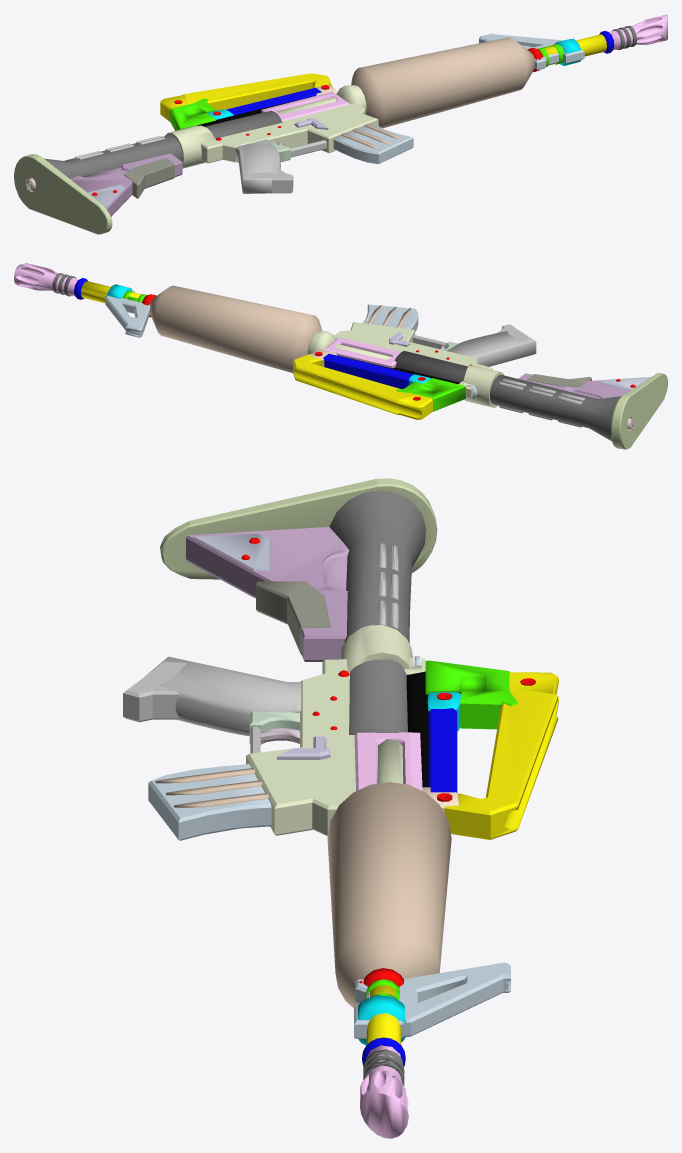
3 renders of one model, top to bottom at view 1: azimuth 30°, elevation 25°; view 2: azimuth 150°, elevation 25°; view 3: azimuth 270°, elevation 25°, orthographic. The views are drawn at different scales.
Visible parts, largest first — view 1: Circle001; view 2: Circle001; view 3: Circle001.
Part boxes in pixels (x1=…): Circle001: x1=14, y1=14, x2=667, y2=234; Circle001: x1=14, y1=263, x2=667, y2=449; Circle001: x1=123, y1=478, x2=558, y2=1138.
Bounding box in the file's own units: 0.9201 × 0.0807 × 0.2831.
